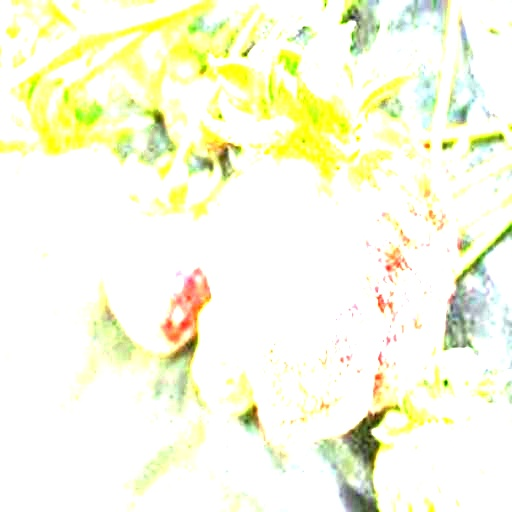Powdery Mildew Fruit: (199, 97, 460, 457), (372, 380, 511, 511), (99, 201, 213, 355), (42, 216, 118, 310), (161, 42, 224, 151)
